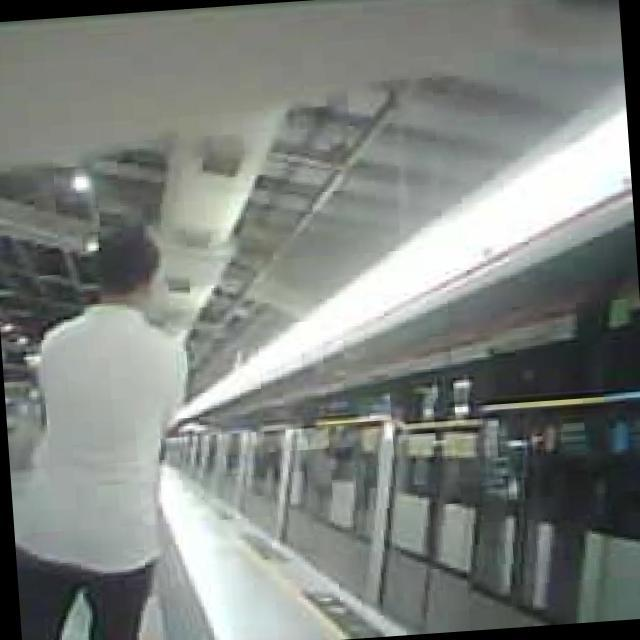person: (0, 222, 211, 640)
